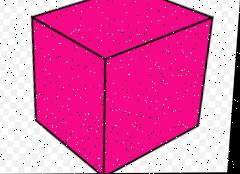cube: (24, 0, 220, 174)
